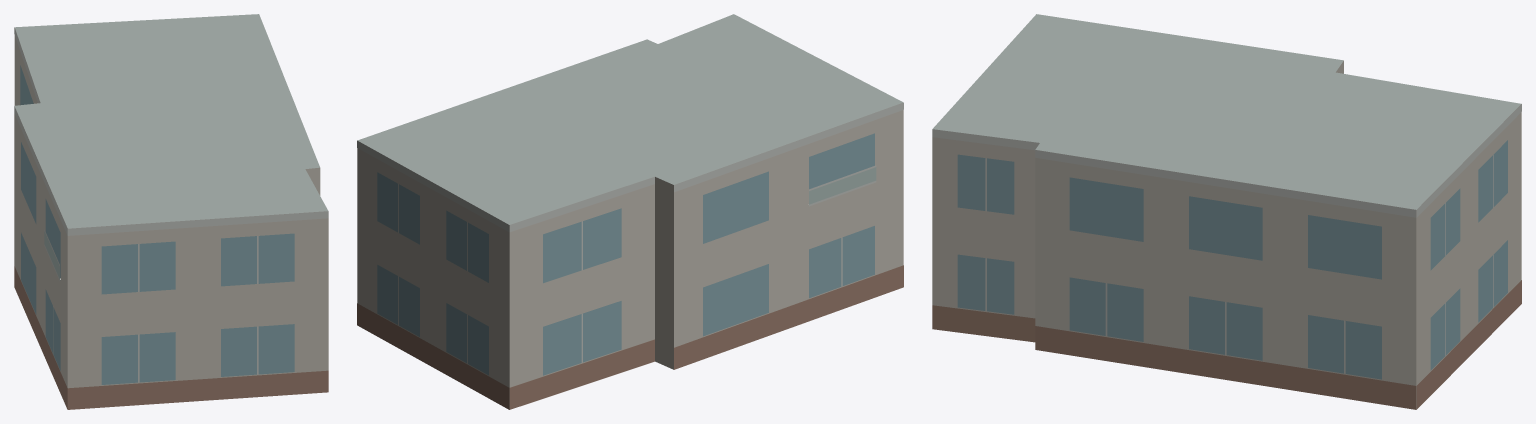
The model's file is survey-upis-32880525.glb.
The picture shows the model from 3 angles, left to right: view 1: azimuth 30°, elevation 25°; view 2: azimuth 150°, elevation 25°; view 3: azimuth 270°, elevation 25°; orthographic projection. The views are drawn at different scales.
Visible parts, largest first — view 1: survey-upis-32880525.tmp; view 2: survey-upis-32880525.tmp; view 3: survey-upis-32880525.tmp.
Boxes of the visible parts, x1,y1,x2,y2 form: survey-upis-32880525.tmp: (14, 14, 328, 409); survey-upis-32880525.tmp: (357, 14, 903, 409); survey-upis-32880525.tmp: (932, 14, 1521, 409).
Size of the model in its own units: 12.82 by 6.1 by 16.3.
